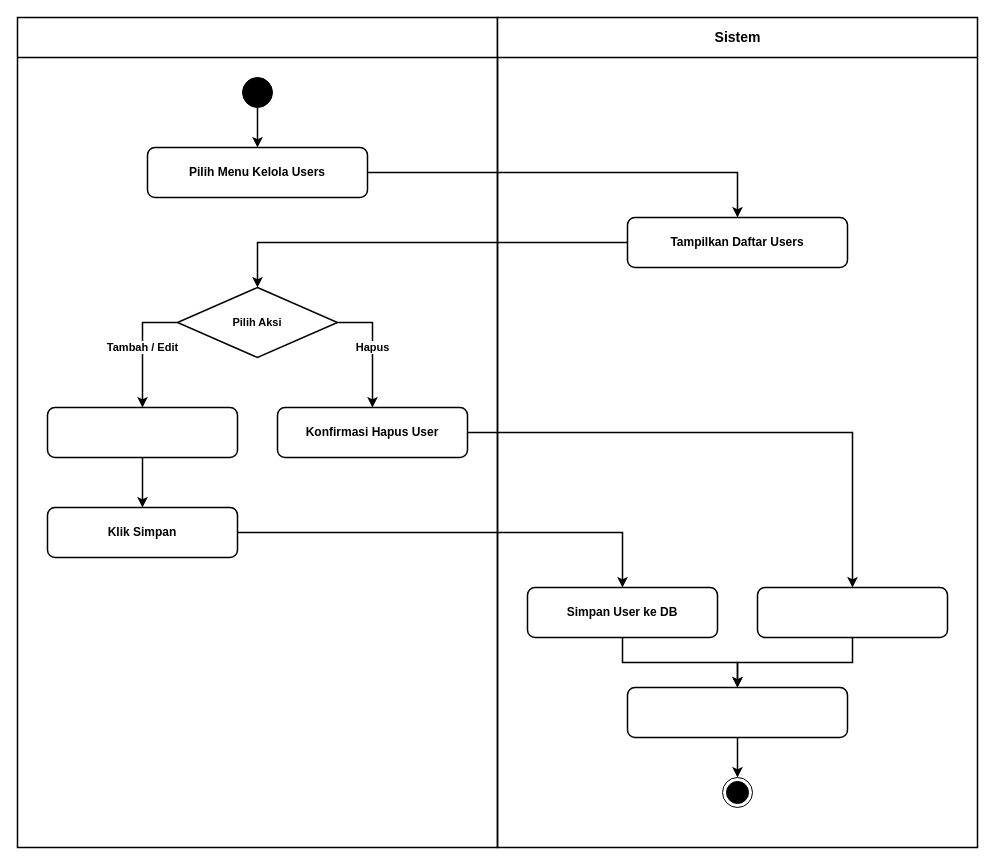
The diagram is 996 pixels wide and 866 high, and some of its shapes have lost their labels. Here are the shapes that lost their labels. From the top down, the box of each, then its label:
(46, 406, 238, 458): Input Form User
(16, 16, 498, 848): Admin Sekolah
(756, 586, 948, 638): Hapus User dari DB
(626, 686, 848, 738): Tampilkan Notifikasi Sukses
